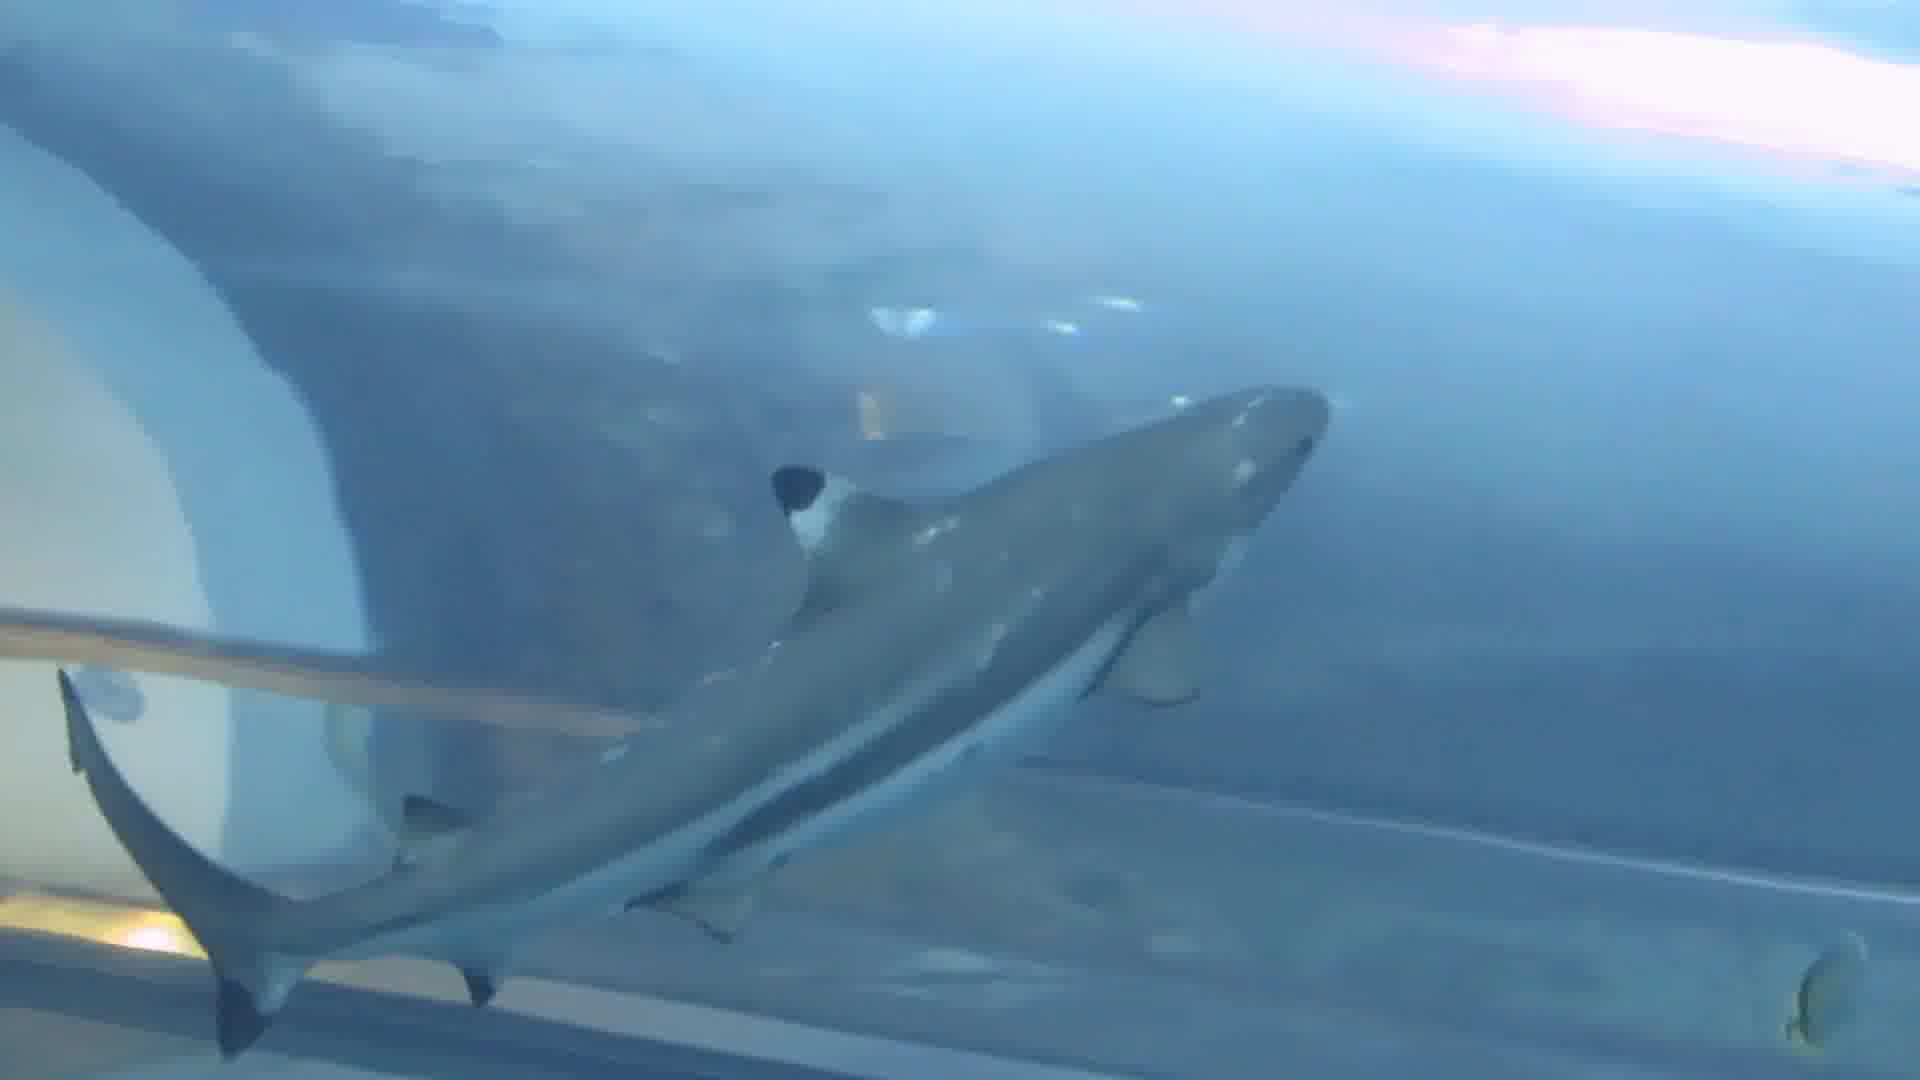Carcharhinus melanopterus: (1, 353, 1331, 1029)
